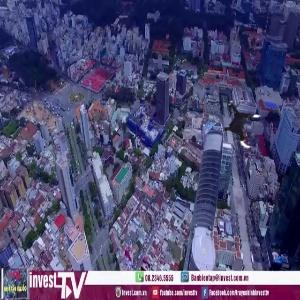drone: (216, 97, 271, 152)
